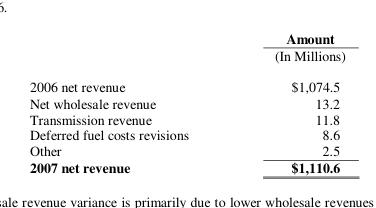table: (29, 28, 344, 177)
table column: (29, 28, 231, 177), (231, 28, 344, 177)
table column header: (29, 28, 344, 70)
table row: (29, 28, 344, 70), (29, 70, 344, 94), (29, 158, 344, 177), (29, 141, 344, 158), (29, 94, 344, 110), (29, 110, 344, 126), (29, 126, 344, 141)
